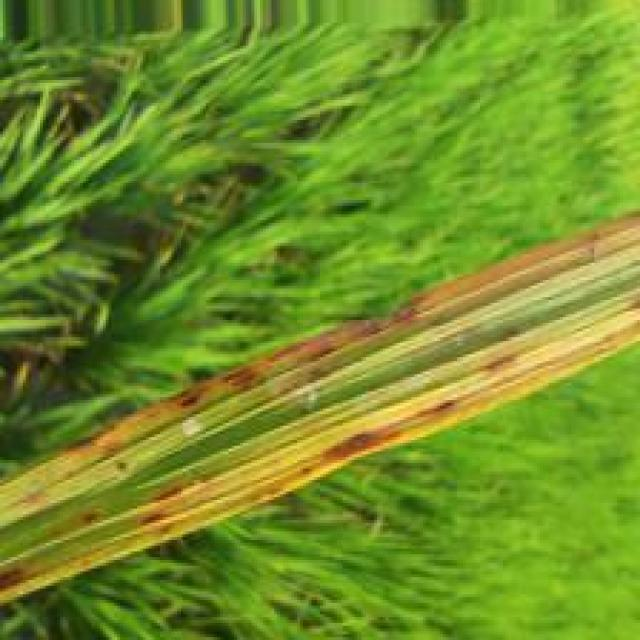Narrow_Brown_Leaf_Spot: (56, 285, 465, 467), (249, 395, 466, 505), (146, 480, 196, 533), (1, 560, 40, 593)
